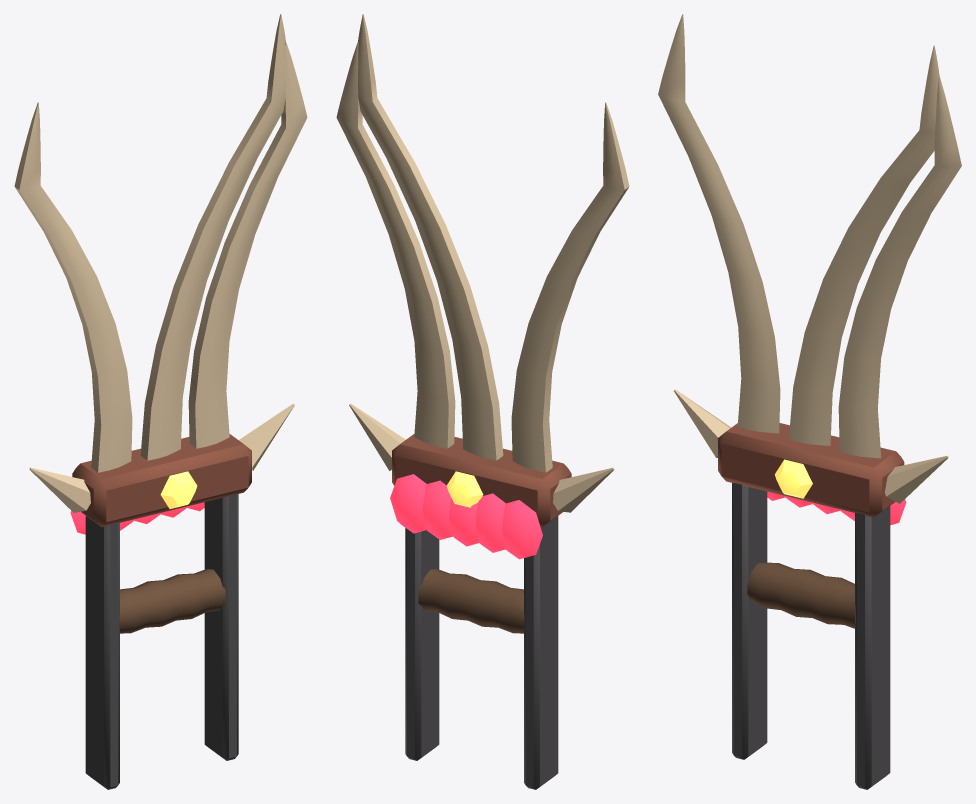
File: wyrmqueen_talons.glb
The picture shows the model from 3 angles, left to right: view 1: azimuth 30°, elevation 25°; view 2: azimuth 150°, elevation 25°; view 3: azimuth 330°, elevation 25°; orthographic projection. The views are drawn at different scales.
Parts seen in each view (by area): view 1: wyrmqueen_talons; view 2: wyrmqueen_talons; view 3: wyrmqueen_talons.
Part boxes in pixels (box(x1,y1,x2,y2)): wyrmqueen_talons: box(14, 14, 307, 789); wyrmqueen_talons: box(336, 14, 629, 789); wyrmqueen_talons: box(658, 14, 961, 789).
Size of the model in its own units: 0.2203 by 0.525 by 0.0616.
